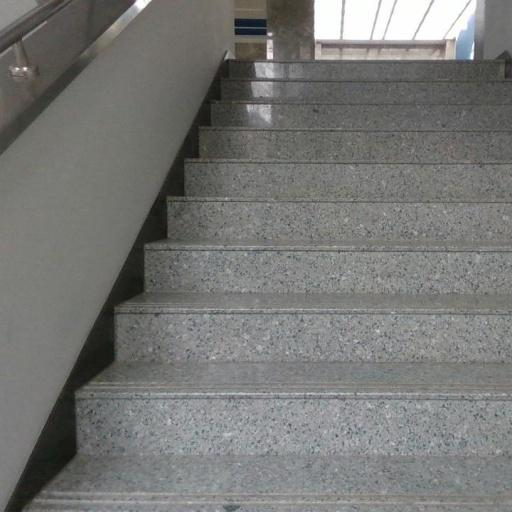stairs: (29, 61, 511, 511)
